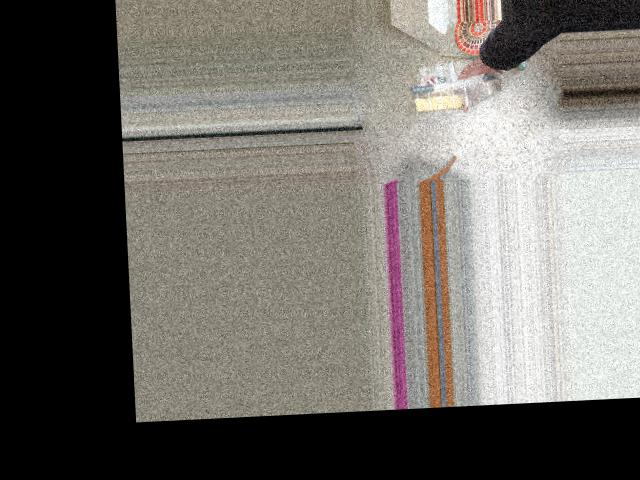cheese: (406, 26, 485, 137)
